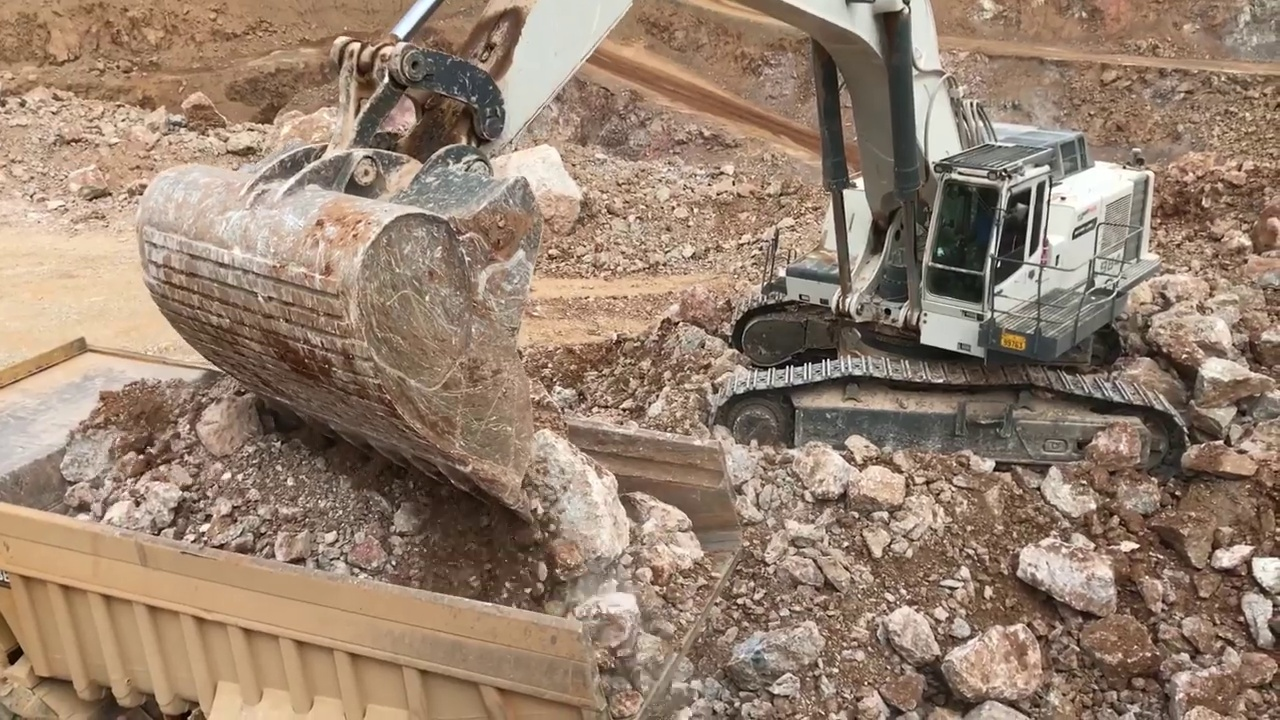dumper: (5, 333, 746, 719)
excavator: (135, 2, 1195, 521)
